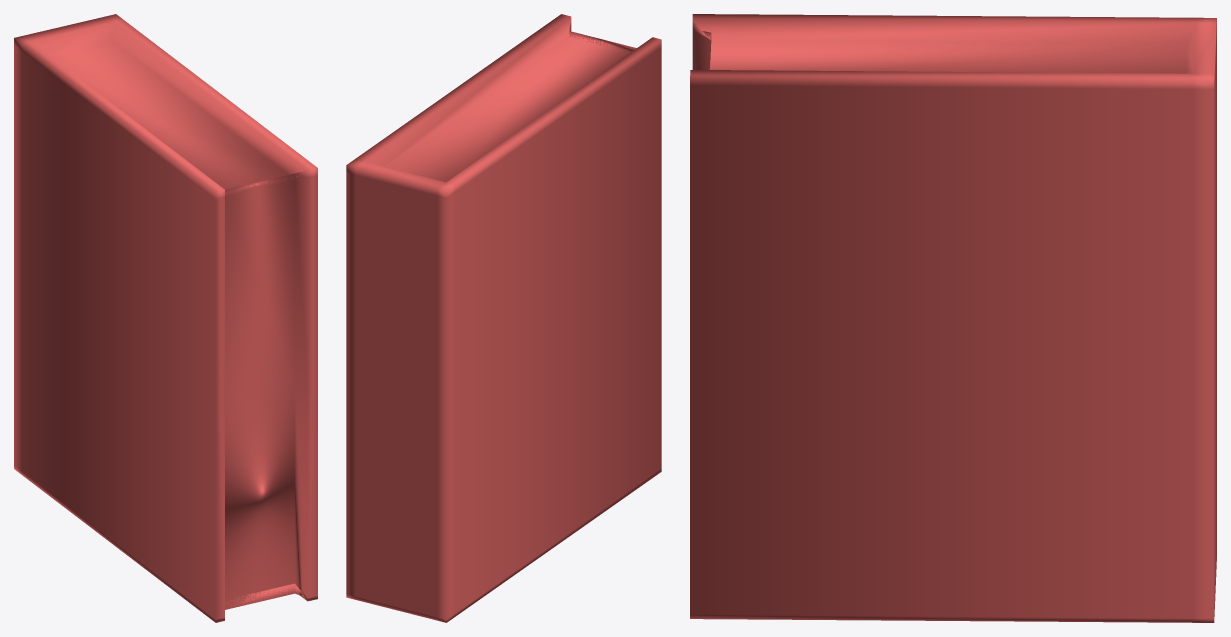
The model's file is Book_2.fbx.
3 renders of one model, left to right at view 1: azimuth 30°, elevation 25°; view 2: azimuth 150°, elevation 25°; view 3: azimuth 270°, elevation 25°, orthographic. The views are drawn at different scales.
Parts seen in each view (by area): view 1: Book_2; view 2: Book_2; view 3: Book_2.
Boxes of the visible parts, <box> form: Book_2: <box>14,14,317,622</box>; Book_2: <box>346,14,661,622</box>; Book_2: <box>690,14,1216,622</box>.
Size of the model in its own units: 10.56 by 40.5 by 35.6.
